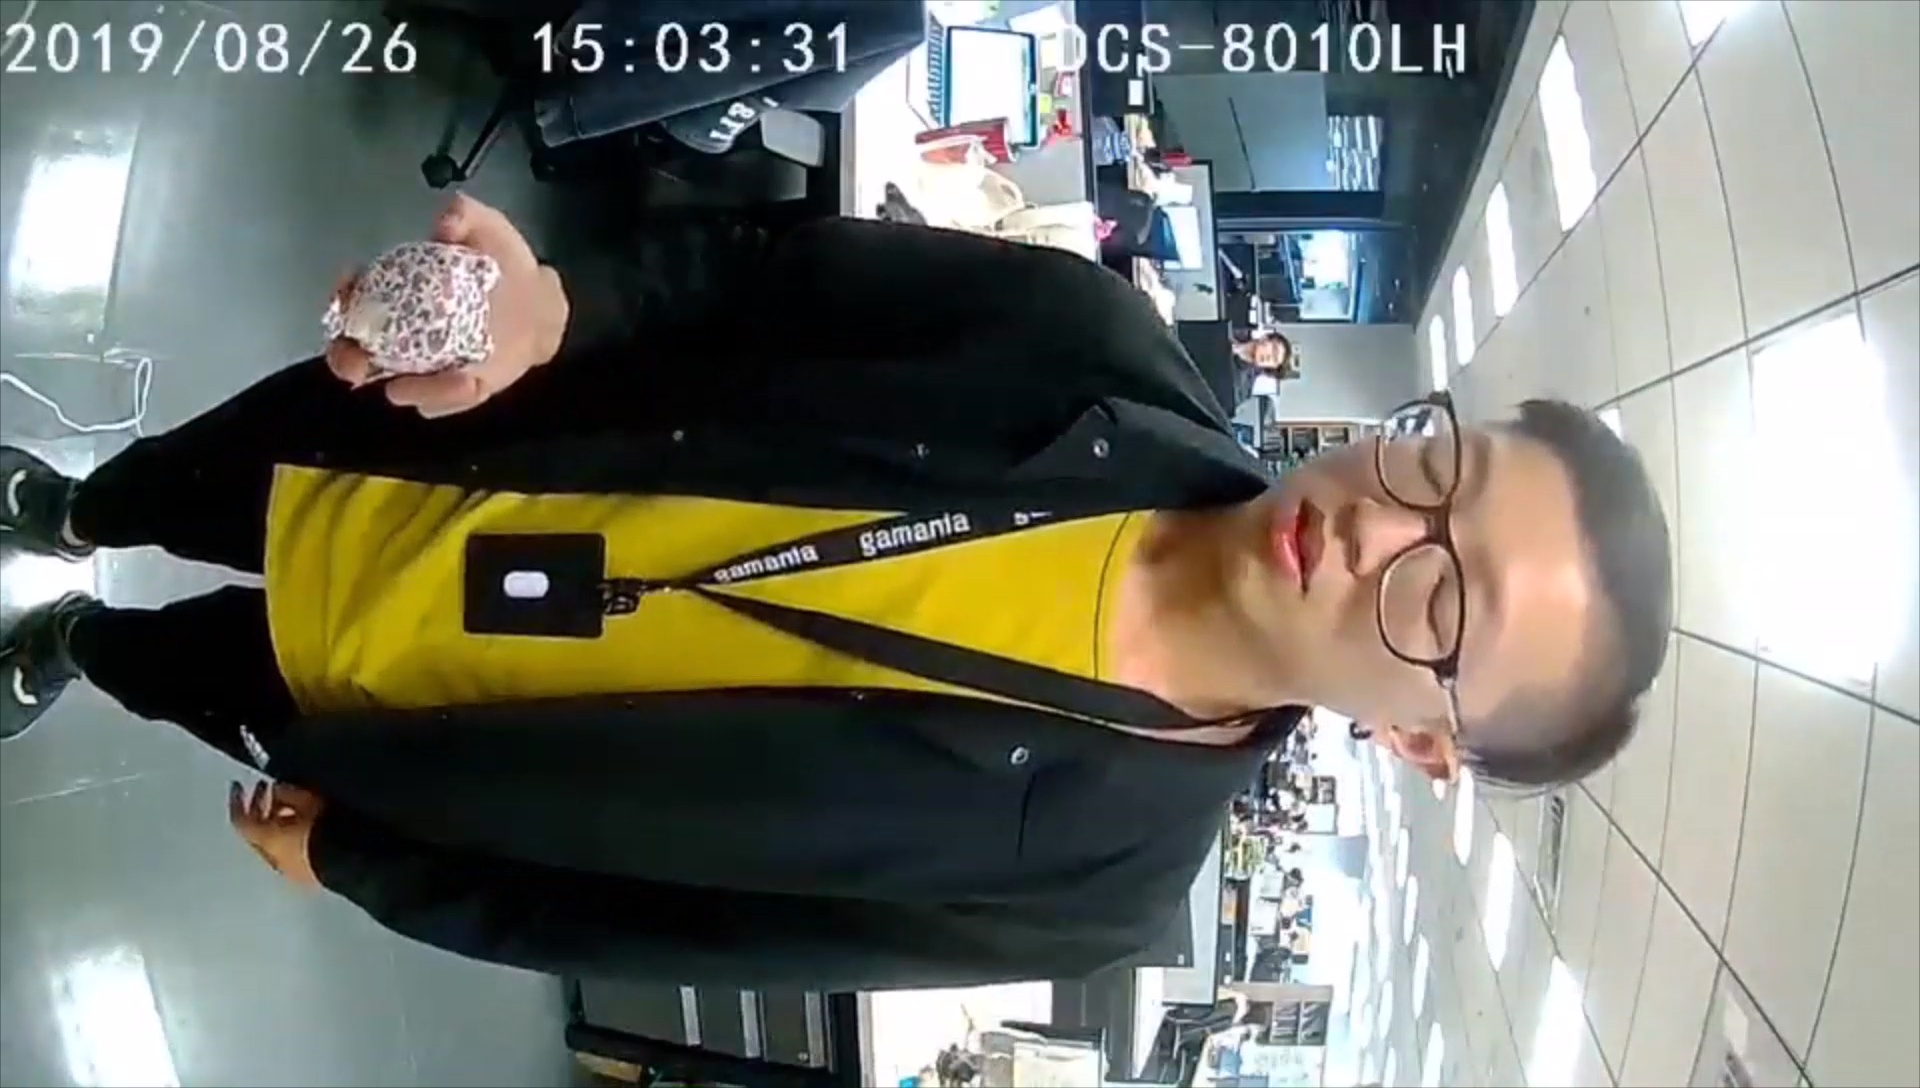pig: (323, 226, 501, 384)
